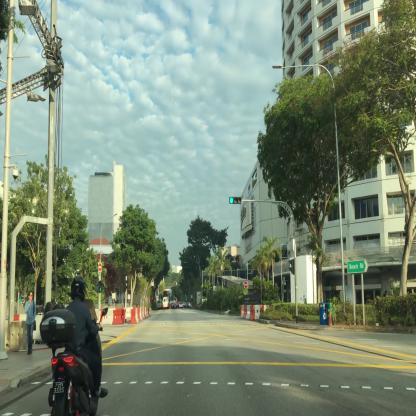green_traffic_light: (229, 196, 241, 204)
